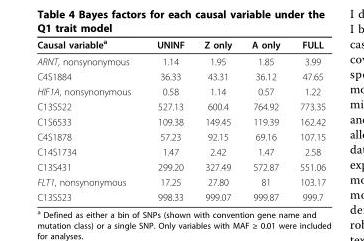table: (36, 37, 324, 202)
table column: (36, 37, 143, 202), (143, 37, 193, 202), (193, 37, 241, 202), (241, 37, 289, 202), (289, 37, 324, 202)
table column header: (36, 37, 324, 52)
table row: (36, 52, 324, 68), (36, 143, 324, 159), (36, 37, 324, 52), (36, 68, 324, 83), (36, 83, 324, 98), (36, 98, 324, 113), (36, 113, 324, 128), (36, 128, 324, 143), (36, 159, 324, 174), (36, 174, 324, 189), (36, 189, 324, 202)
